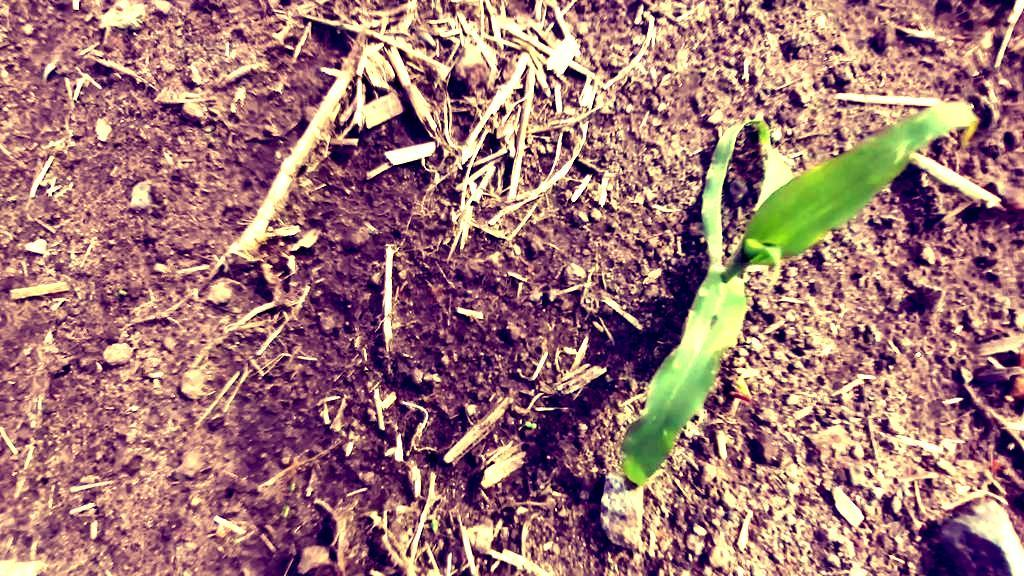BroWeed: (725, 377, 754, 409), (103, 1, 144, 22), (616, 369, 644, 395), (100, 14, 141, 31), (355, 506, 383, 525), (39, 60, 56, 82), (428, 516, 444, 533), (523, 419, 539, 432), (281, 504, 292, 519), (116, 287, 130, 298), (290, 482, 296, 493)
